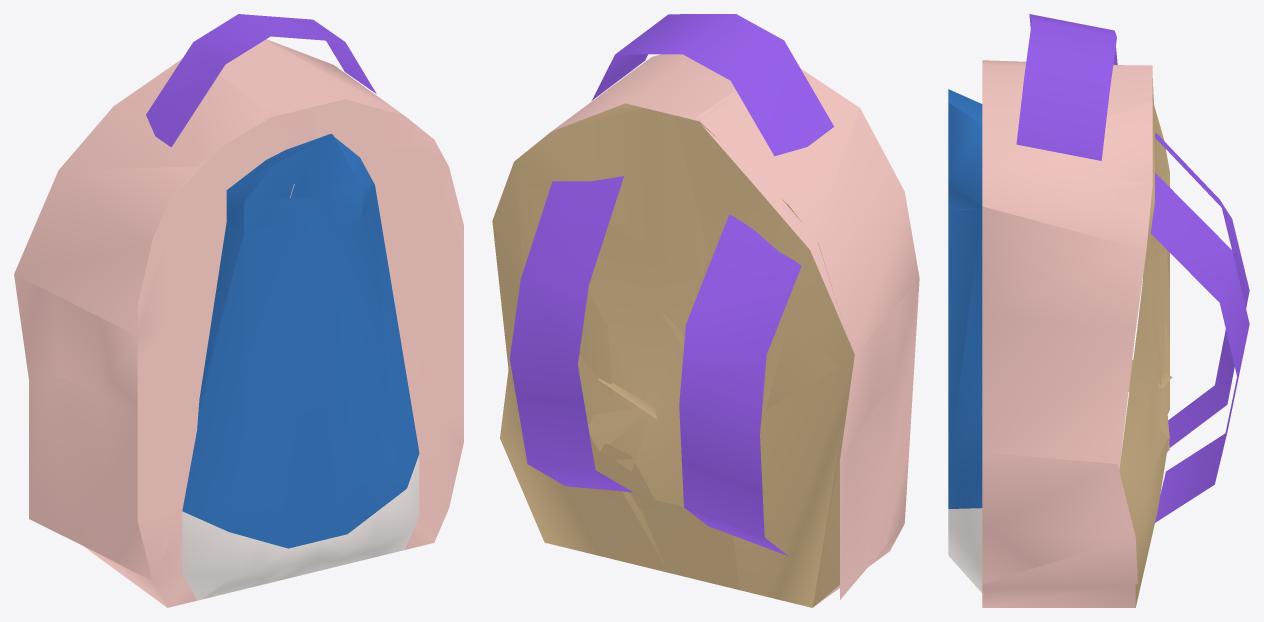
File: backpack_00.gltf
The picture shows the model from 3 angles, left to right: view 1: azimuth 30°, elevation 25°; view 2: azimuth 150°, elevation 25°; view 3: azimuth 270°, elevation 25°; orthographic projection.
Bounding box in the file's own units: 12.72 × 16.83 × 8.84.
1 material, 1 textured.
